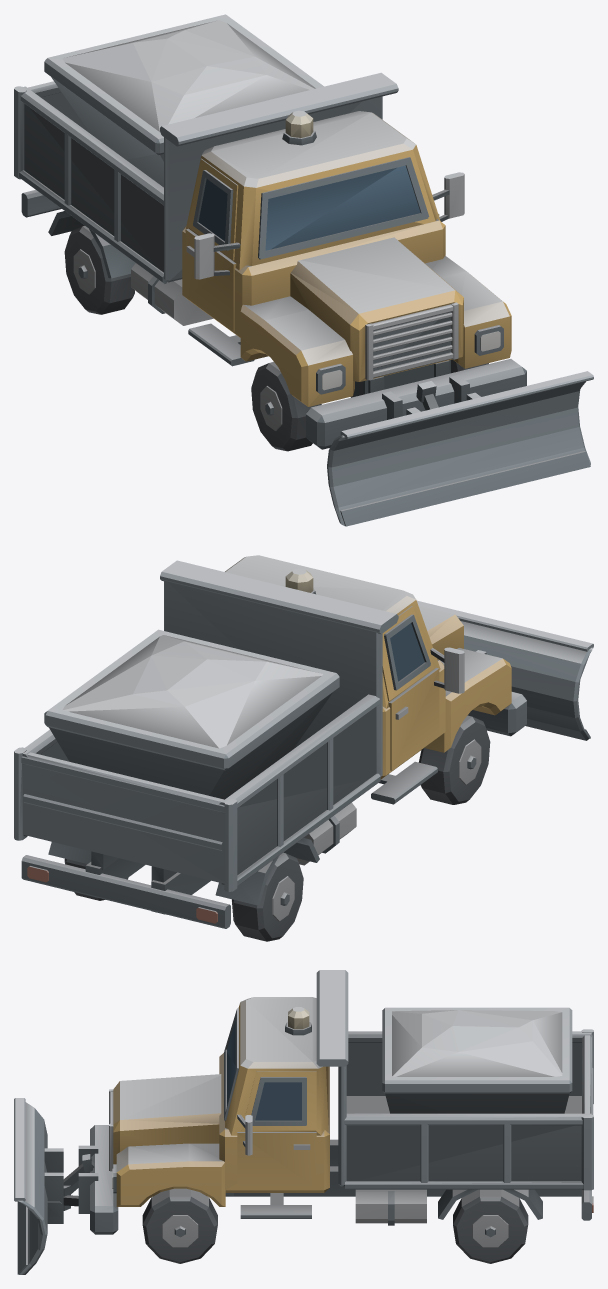
The model's file is plough.glb.
The picture shows the model from 3 angles, top to bottom: view 1: azimuth 30°, elevation 25°; view 2: azimuth 150°, elevation 25°; view 3: azimuth 270°, elevation 25°; orthographic projection. The views are drawn at different scales.
Visible parts, largest first — view 1: plough.001; view 2: plough.001; view 3: plough.001.
Boxes of the visible parts, <box> form: plough.001: <box>14,14,593,526</box>; plough.001: <box>14,555,593,941</box>; plough.001: <box>14,970,593,1274</box>.
Bounding box in the file's own units: 3.12 × 2.88 × 7.01.
